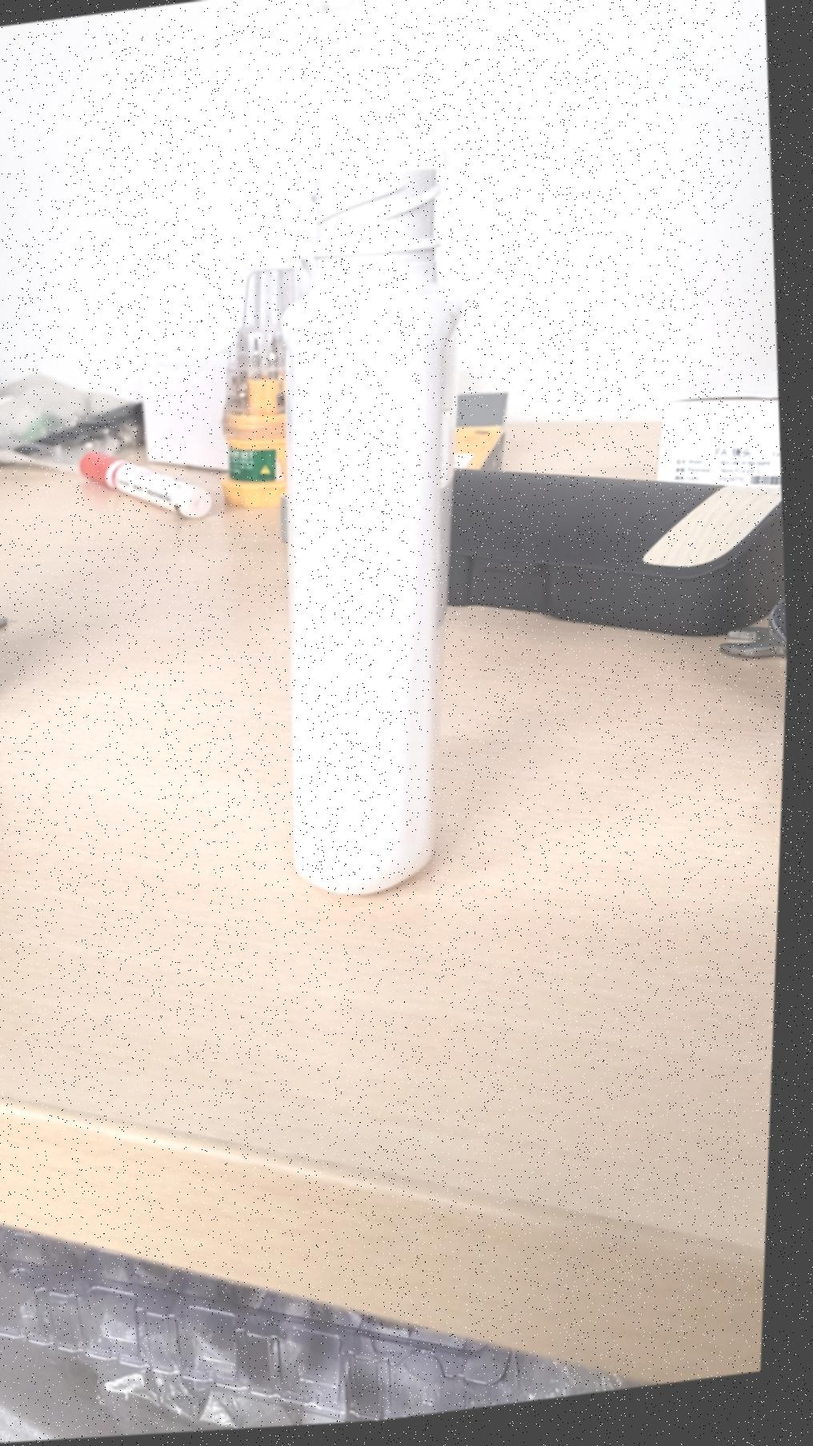bottle: (282, 169, 461, 895)
